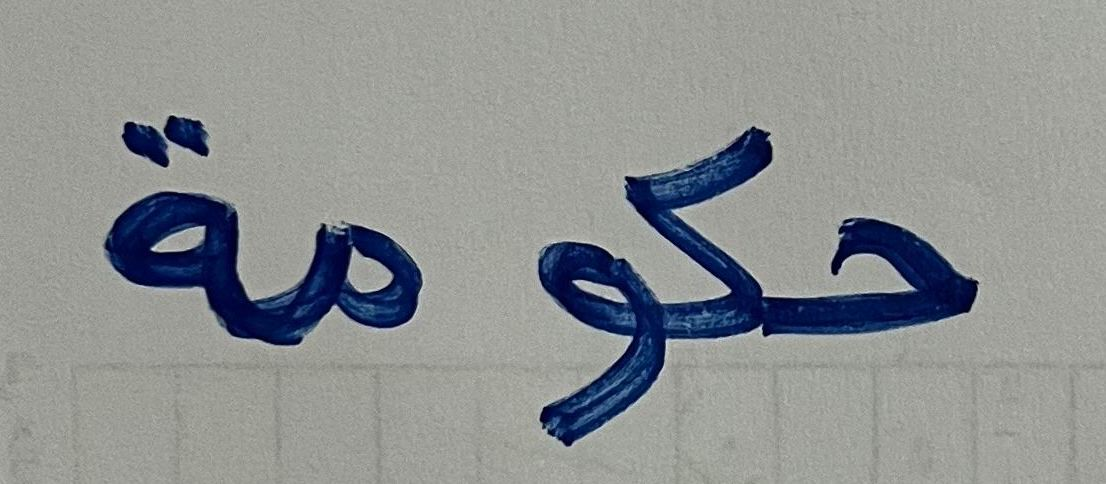hah: (802, 116, 1011, 410)
kaf: (656, 65, 793, 368)
meem: (281, 163, 465, 375)
teh_marbota: (76, 38, 268, 362)
waw: (483, 226, 650, 453)
